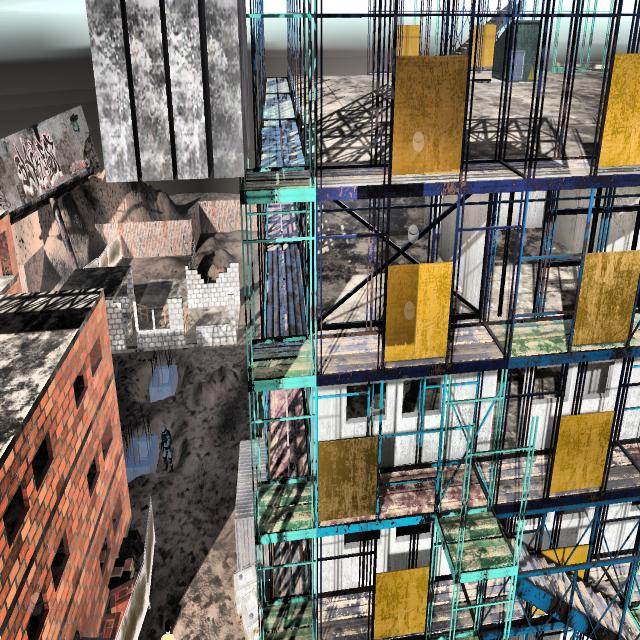bad: (159, 414, 175, 478)
